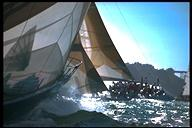sailboat: (3, 2, 92, 125), (80, 3, 175, 101)
sky: (125, 3, 189, 62)
water: (122, 101, 189, 122)
